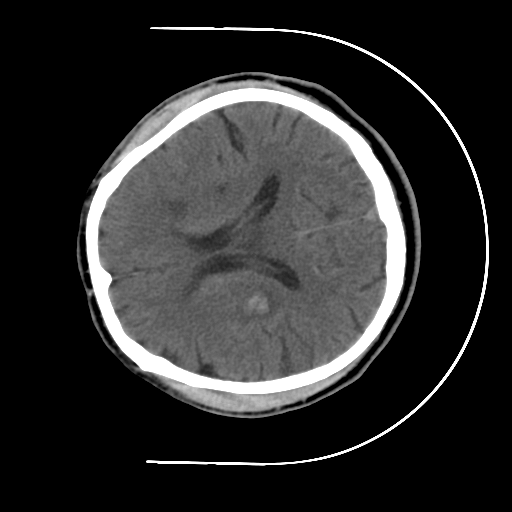a: (221, 278, 288, 331)
